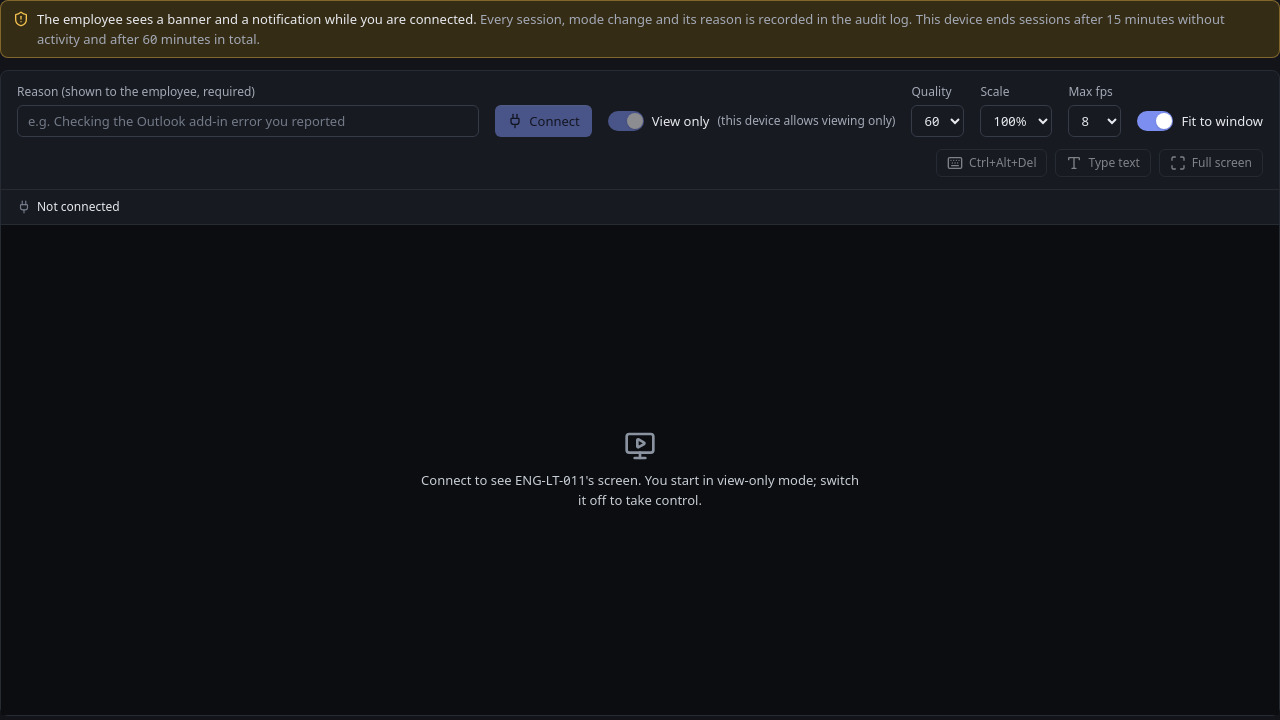
RemoteDesktop guardrail states › forces view-only and requires a reason
Expected: the switch named "View only" next to "View only" is disabled, [608,111,644,131]
Expected: the text "(this device allows viewing only)" is shown, [718,112,896,130]
In the field labelled "Reason (shown to the employee, required)": (248, 121) [17,105,479,137], type "ticket 9"
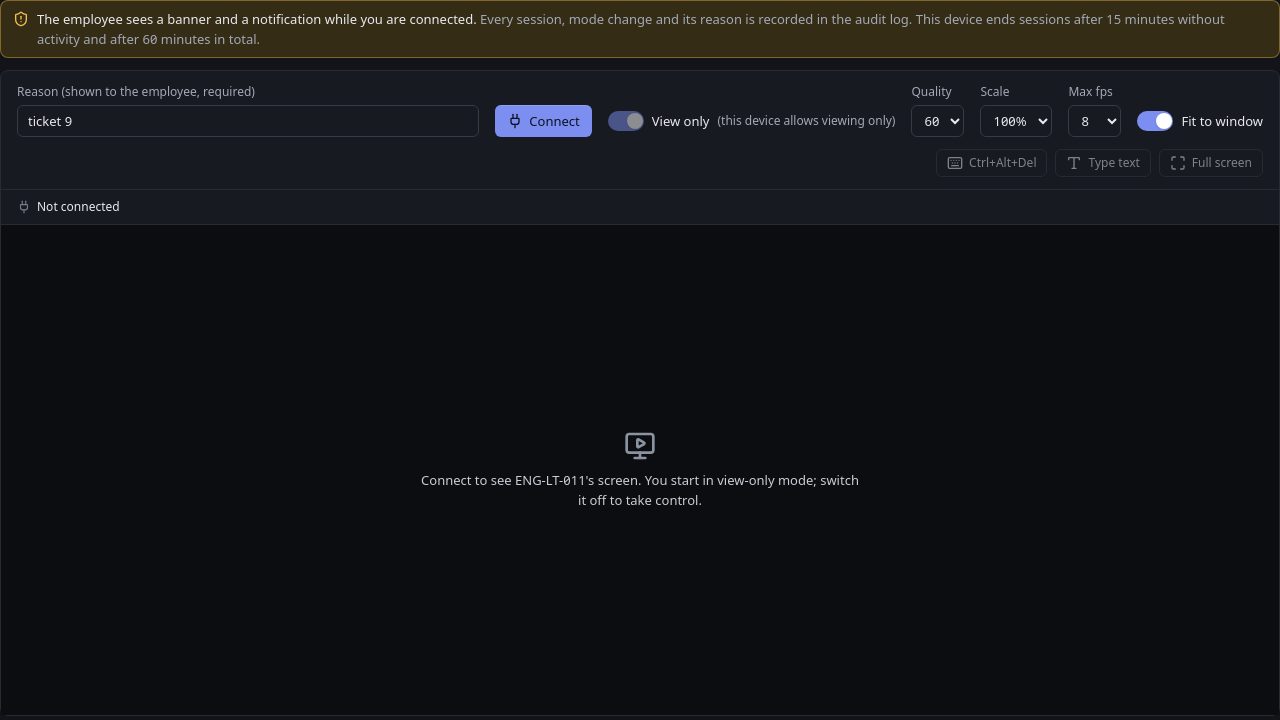
Expected: the button "Connect" is enabled, [495,105,592,137]
